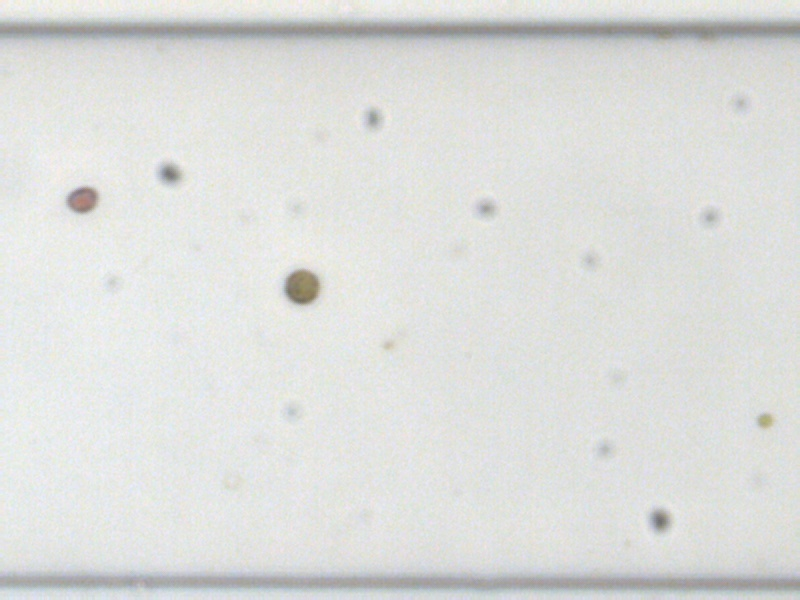Chlorella: (755, 410, 774, 428)
Effrenium: (281, 266, 322, 305)
Porphyridium: (63, 184, 98, 213)
